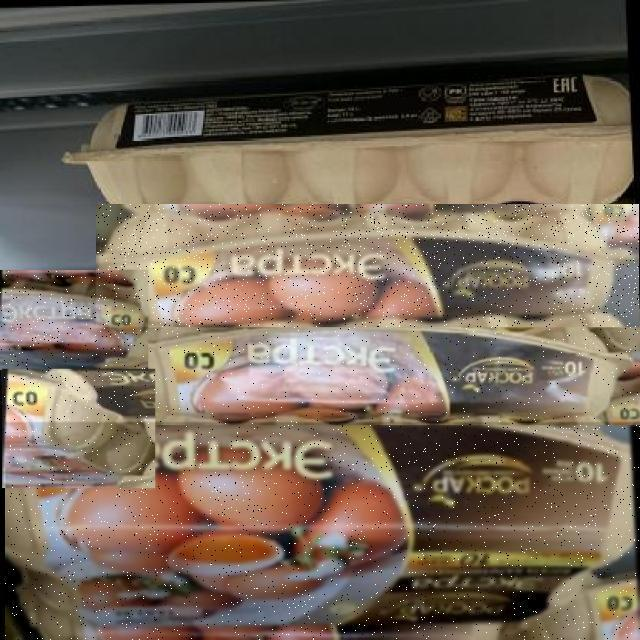Eggs: (5, 422, 640, 640), (96, 204, 639, 327), (111, 309, 640, 425), (2, 369, 155, 488), (0, 270, 148, 370)
